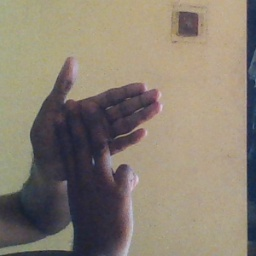M: (25, 56, 165, 218)
